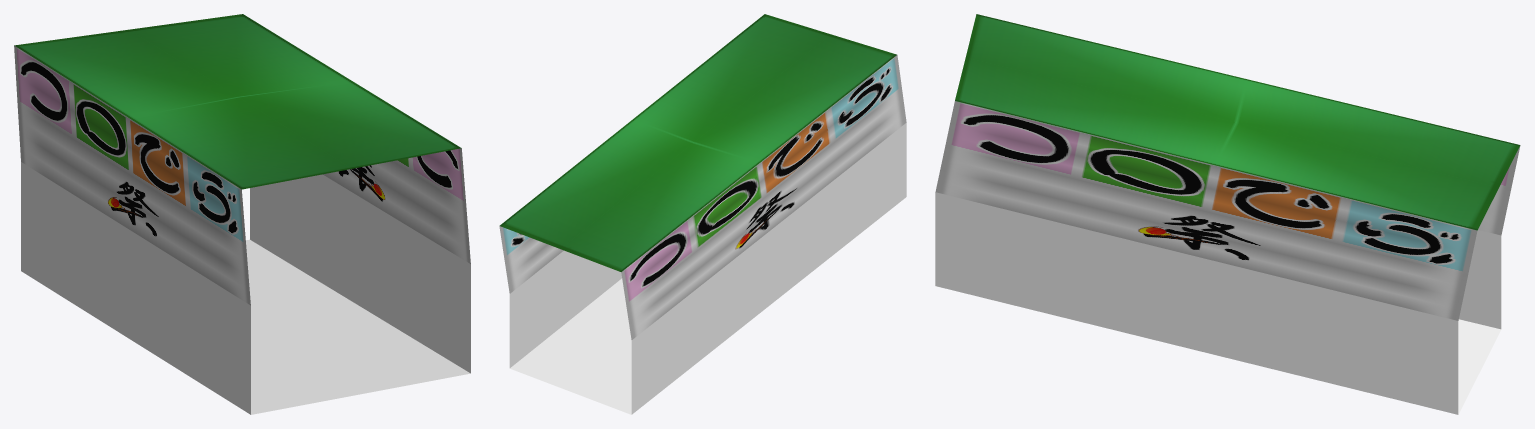
The model's file is CourseWinter_Wall_L_2_2.fbx.
3 renders of one model, left to right at view 1: azimuth 30°, elevation 25°; view 2: azimuth 150°, elevation 25°; view 3: azimuth 270°, elevation 25°, orthographic. The views are drawn at different scales.
Visible parts, largest first — view 1: polySurface456; view 2: polySurface456; view 3: polySurface456.
Boxes of the visible parts, x1,y1,x2,y2 form: polySurface456: (14,14,470,414); polySurface456: (499,14,906,414); polySurface456: (935,14,1520,414).
Bounding box in the file's own units: 2.83 × 2.98 × 5.65.
1 material, 1 textured.
